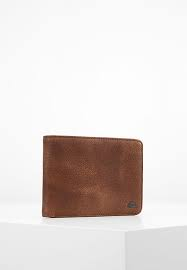monedero: (42, 135, 144, 219)
